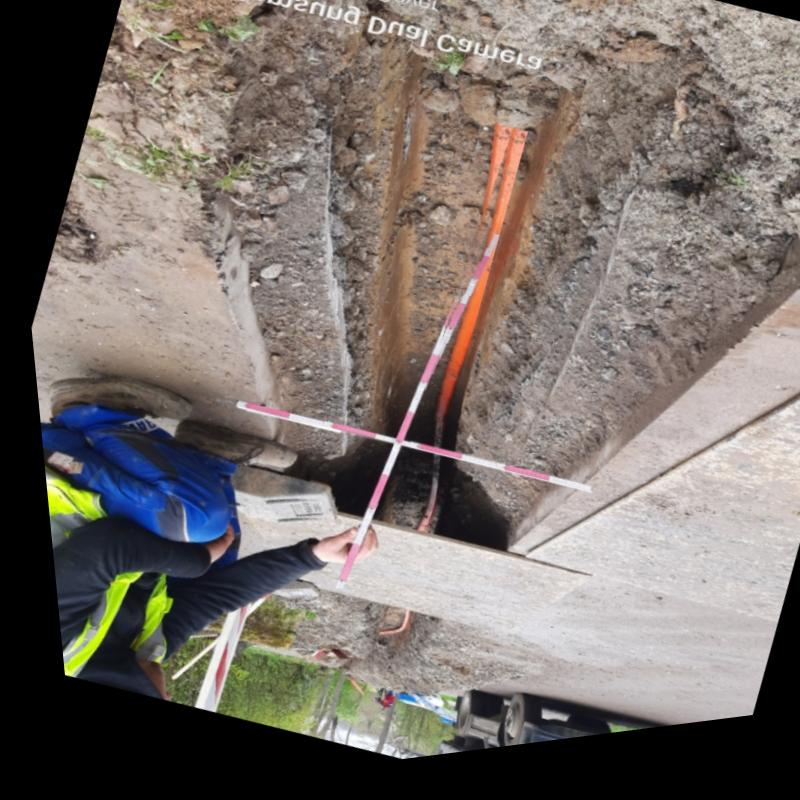Orang-Speednetrohrchen: (425, 144, 523, 432)
